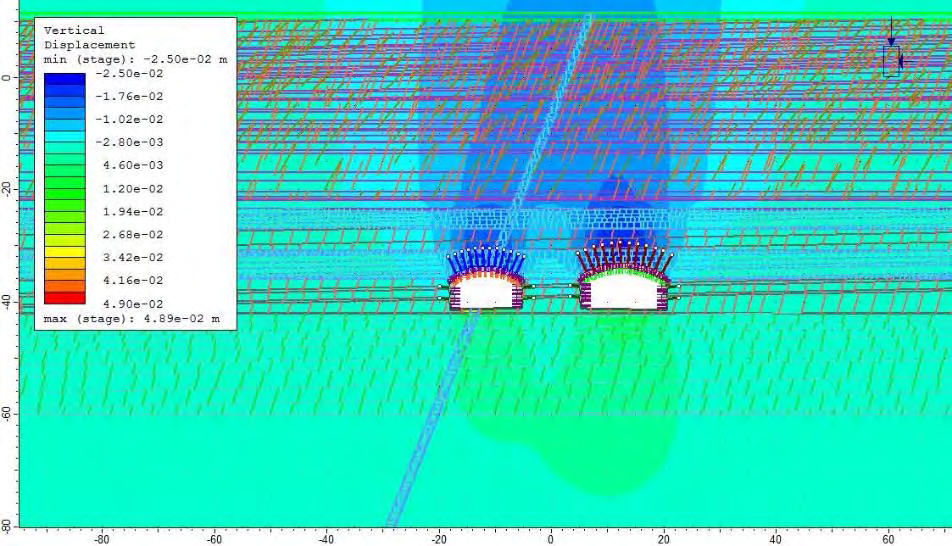crown: (611, 251, 635, 262), (476, 256, 495, 267)
label: (36, 16, 235, 331)
tunnel-opening: (578, 265, 668, 308), (450, 269, 521, 304)
